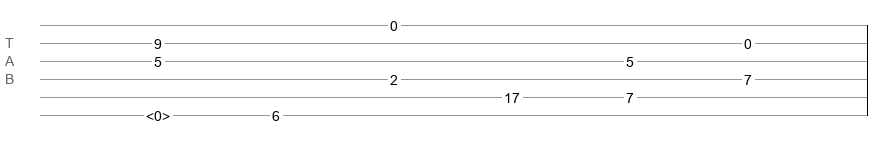0: (390, 18, 398, 28), (744, 36, 752, 46)
17: (504, 90, 520, 100)
2: (390, 72, 398, 82)
5: (154, 54, 162, 64), (626, 54, 634, 64)
6: (272, 108, 280, 118)
7: (626, 90, 634, 100), (744, 72, 752, 82)
9: (154, 36, 162, 46)
harmonic: (146, 108, 170, 118)
